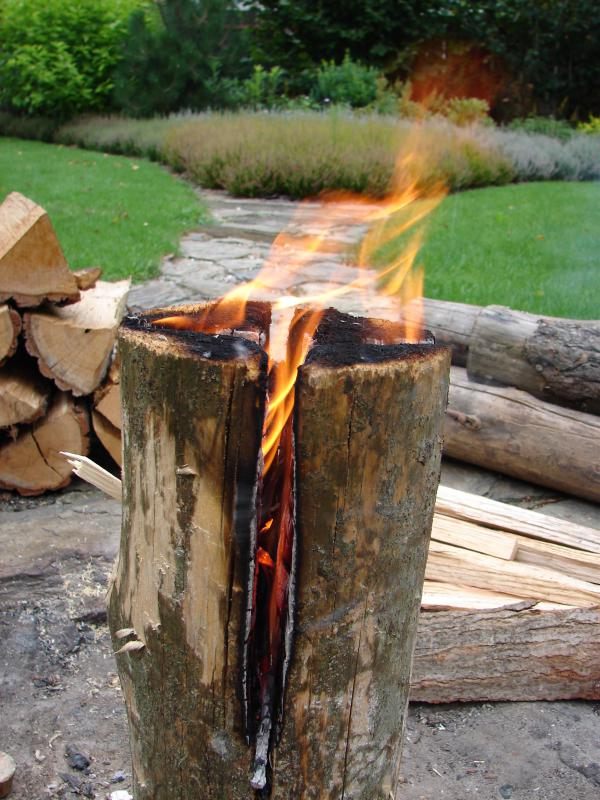fire: (155, 88, 470, 391), (237, 397, 323, 564)
